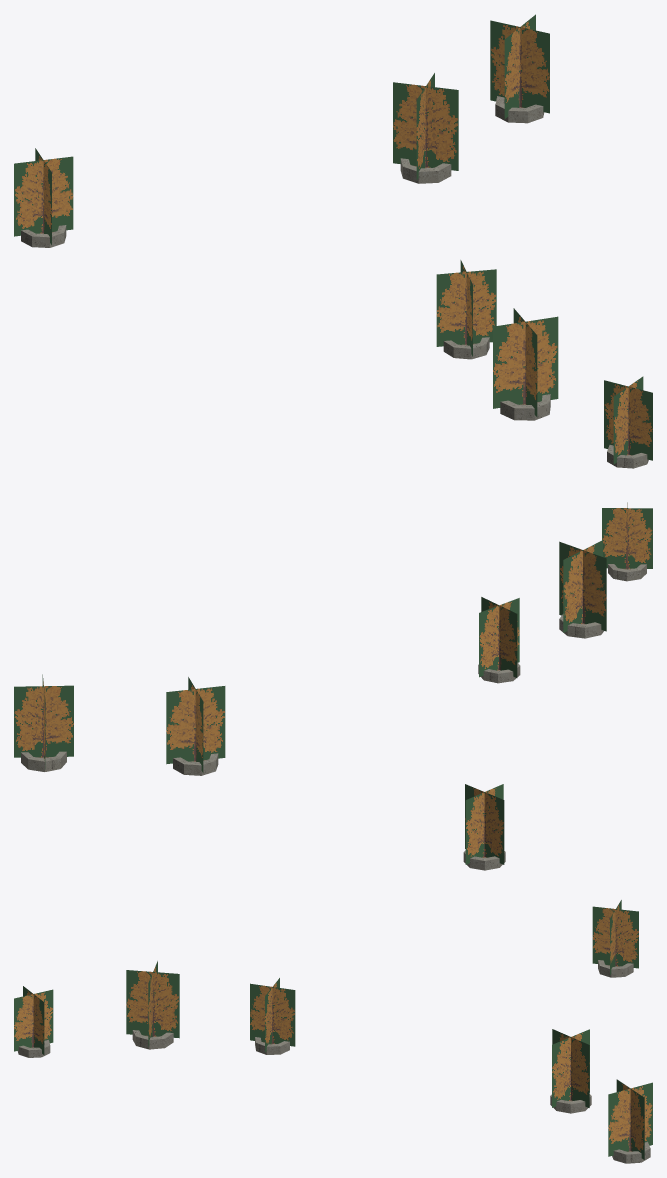
Rendered from procgen-procpain-tree-park-large-xm1zm2.obj.
3 renders of one model, top to bottom at view 1: azimuth 30°, elevation 25°; view 2: azimuth 150°, elevation 25°; view 3: azimuth 270°, elevation 25°, orthographic. The views are drawn at different scales.
Bounding box in the file's own units: 49.81 × 7.84 × 65.77.
